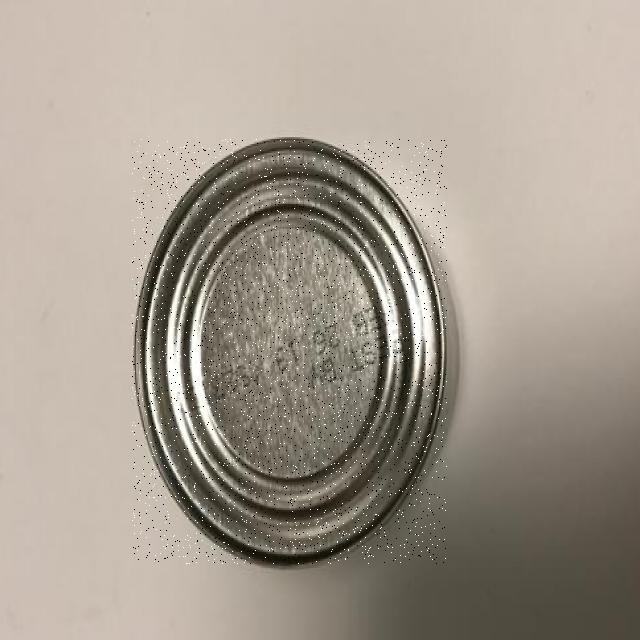metal: (132, 139, 447, 564)
